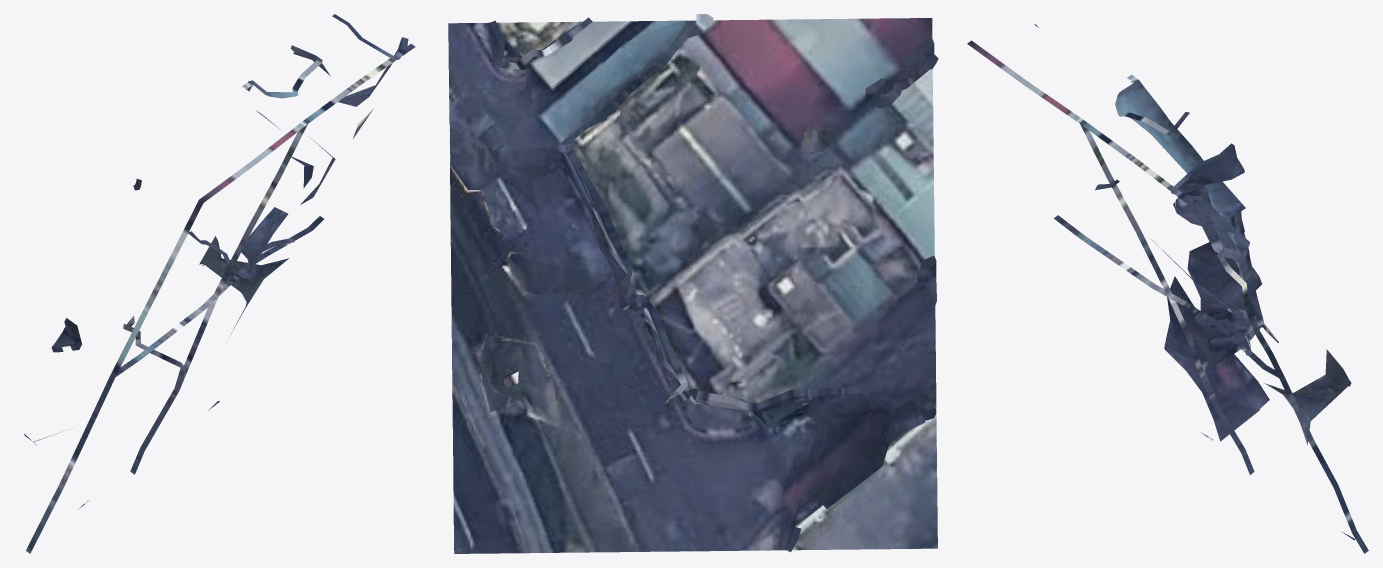
3 views of the same model, side by side, from view 1: azimuth 30°, elevation 25°; view 2: azimuth 150°, elevation 25°; view 3: azimuth 270°, elevation 25° (orthographic). The views are drawn at different scales.
Bounding box in the file's own units: 38.78 × 37.56 × 31.86.
1 material, 1 textured.
